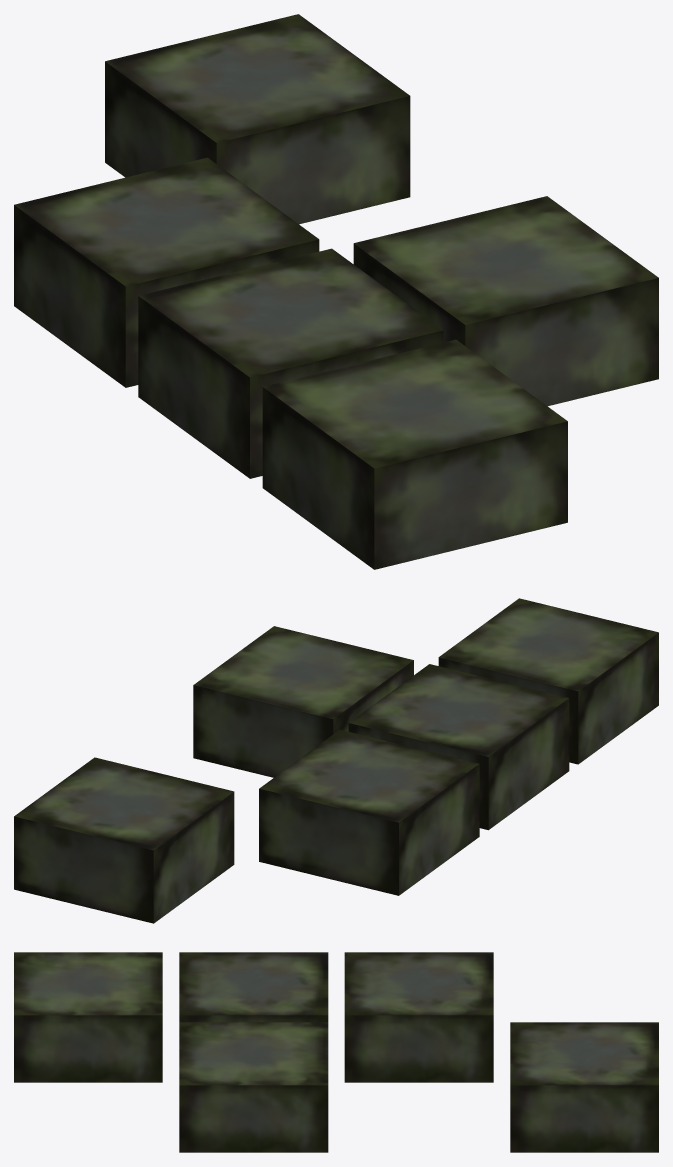
File: cobblestone-small-03.fbx
The picture shows the model from 3 angles, top to bottom: view 1: azimuth 30°, elevation 25°; view 2: azimuth 150°, elevation 25°; view 3: azimuth 270°, elevation 25°; orthographic projection. The views are drawn at different scales.
Visible parts, largest first — view 1: cobblestone_small_3; view 2: cobblestone_small_3; view 3: cobblestone_small_3.
Boxes of the visible parts, x1,y1,x2,y2 form: cobblestone_small_3: (14, 14, 658, 569); cobblestone_small_3: (14, 598, 658, 923); cobblestone_small_3: (14, 952, 658, 1152).
Size of the model in its own units: 190 by 44.98 by 390.
